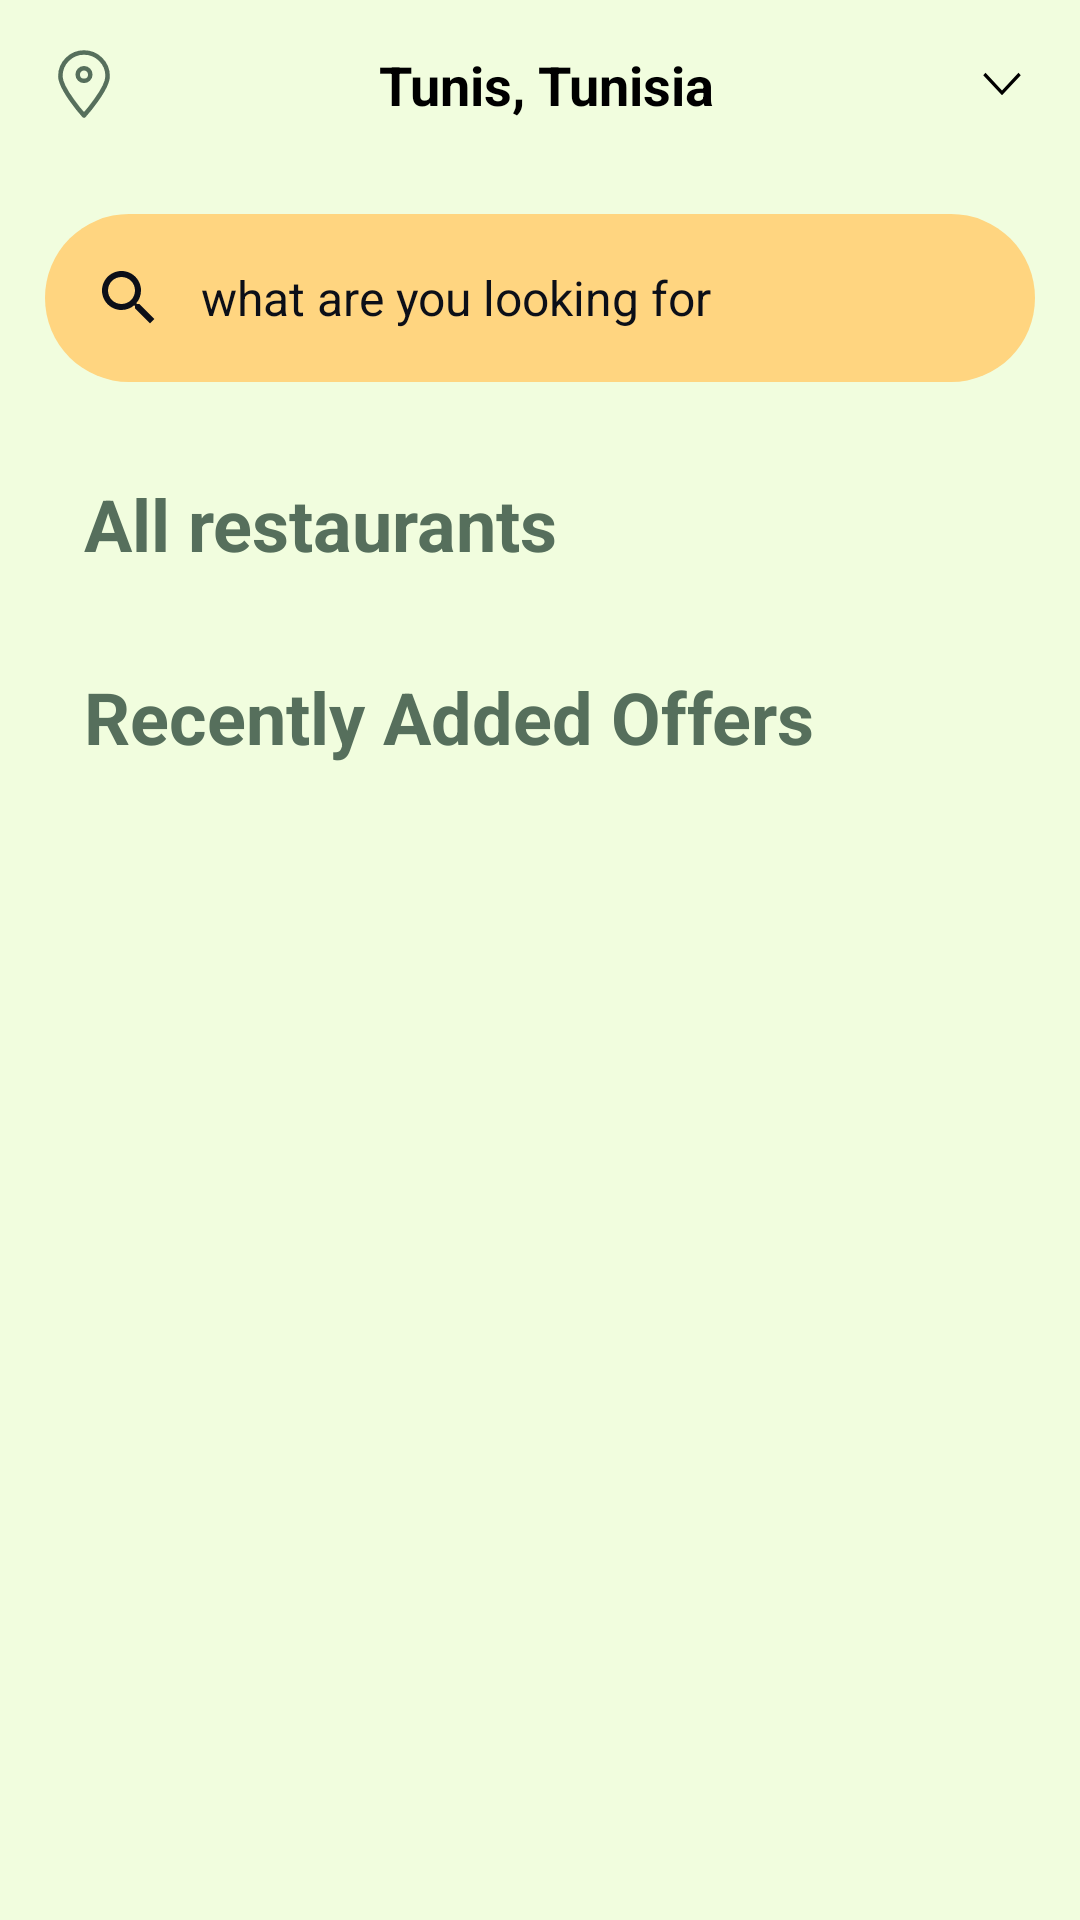

Icons on this 1080*1920 Android screen, each with the point to tap as (x,y):
down arrow: (1002,84)
location icon: (84,84)
